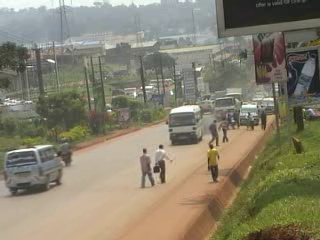Motorcycle: (59, 137, 73, 166)
